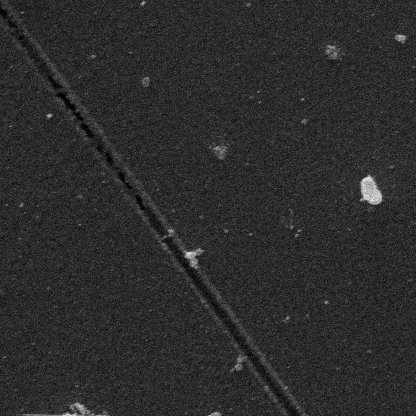spheroplast: (359, 174, 382, 204)
